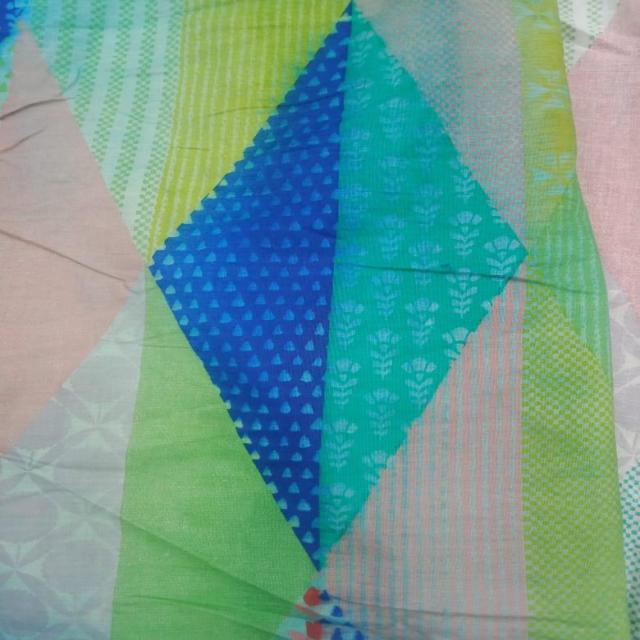color issues: (195, 0, 598, 540), (0, 0, 180, 81)
